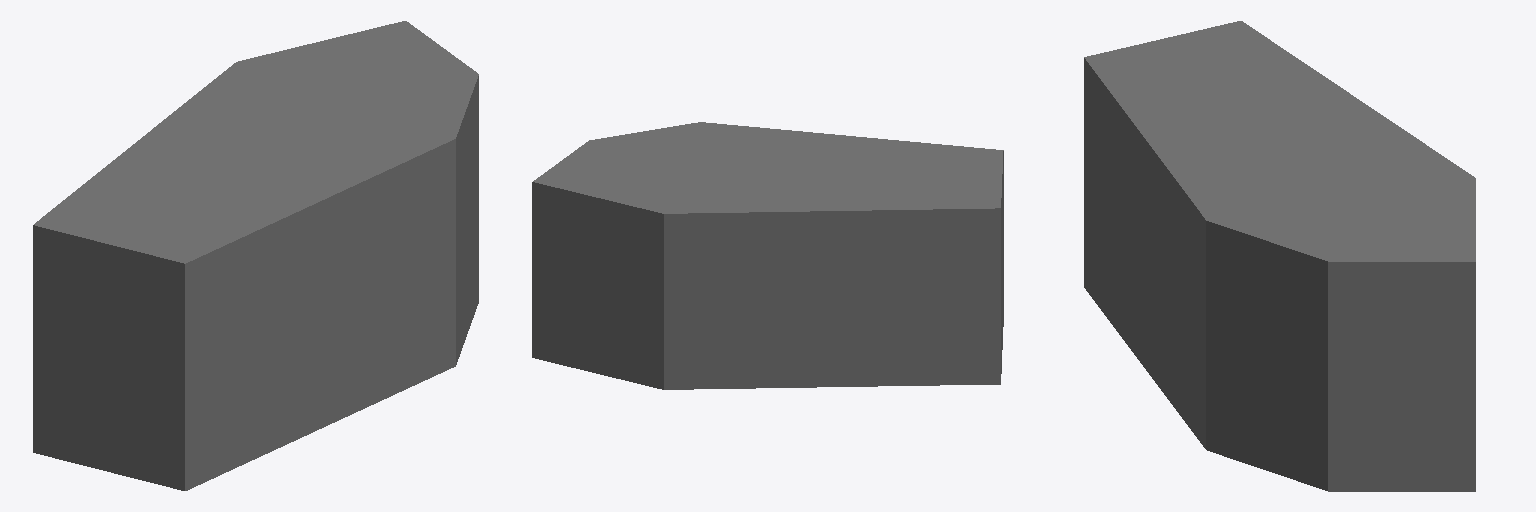
robot.urdf — convex_mesh:
<?xml version="1.0"?>
<robot name="convex_mesh">
    <link name="base_link">
        <!-- Visual Representation -->
        <visual>
            <geometry>
                <mesh filename="polygon.obj" scale="1 1 1"/>
            </geometry>
            <material name="gray">
                <color rgba="0.5 0.5 0.5 1.0"/>
            </material>
        </visual>

        <!-- Collision Geometry -->
        <collision>
            <geometry>
                <mesh filename="polygon.obj" scale="1 1 1"/>
            </geometry>
        </collision>

        <!-- Inertial Properties (Placeholder) -->
        <inertial>
            <mass value="1.0"/>
            <origin xyz="0 0 0"/>
            <inertia ixx="0.01" ixy="0.0" ixz="0.0"
                    iyy="0.01" iyz="0.0"
                    izz="0.01"/>
        </inertial>
    </link>
</robot>

--- Render facts (derived) ---
3 views of the same robot in one strip: view 1: azimuth 30°, elevation 25°; view 2: azimuth 150°, elevation 25°; view 3: azimuth 270°, elevation 25° (orthographic).
Model convex_mesh with 1 links and 0 joints (none), rooted at base_link, posed all joints at 0.
Visible links, largest first — view 1: base_link; view 2: base_link; view 3: base_link.
Boxes of the visible links, box(x1,y1,x2,y2) form: base_link: box(33, 21, 478, 490); base_link: box(532, 122, 1003, 389); base_link: box(1084, 21, 1475, 491).
Size in the robot's own frame: 0.1125 by 0.0773 by 0.05 metres.
Meshes: 1 distinct files referenced, 1 mesh visuals loaded (1 OBJ).